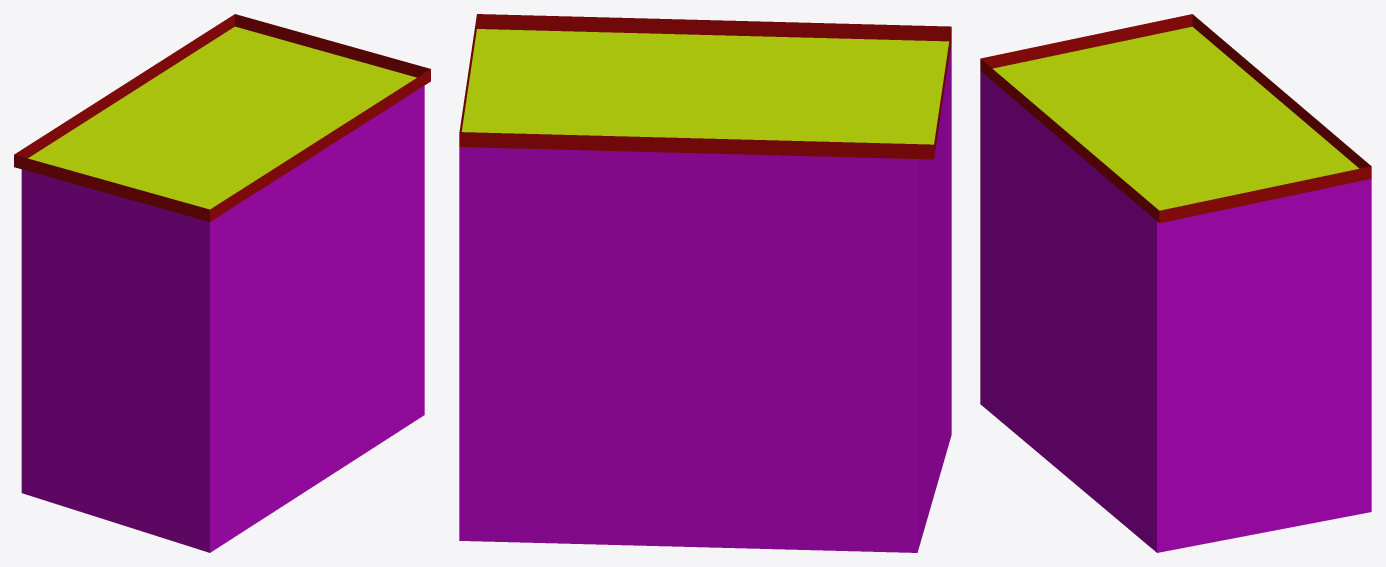
Rendered from sjs_52.glb.
3 views of the same model, side by side, from view 1: azimuth 30°, elevation 25°; view 2: azimuth 150°, elevation 25°; view 3: azimuth 270°, elevation 25° (orthographic). The views are drawn at different scales.
Parts seen in each view (by area): view 1: sjs_52; view 2: sjs_52; view 3: sjs_52.
Part boxes in pixels (x1=…): sjs_52: x1=14, y1=14, x2=430, y2=552; sjs_52: x1=459, y1=14, x2=951, y2=552; sjs_52: x1=980, y1=14, x2=1371, y2=552.
Size of the model in its own units: 11.69 by 9.58 by 9.82.
